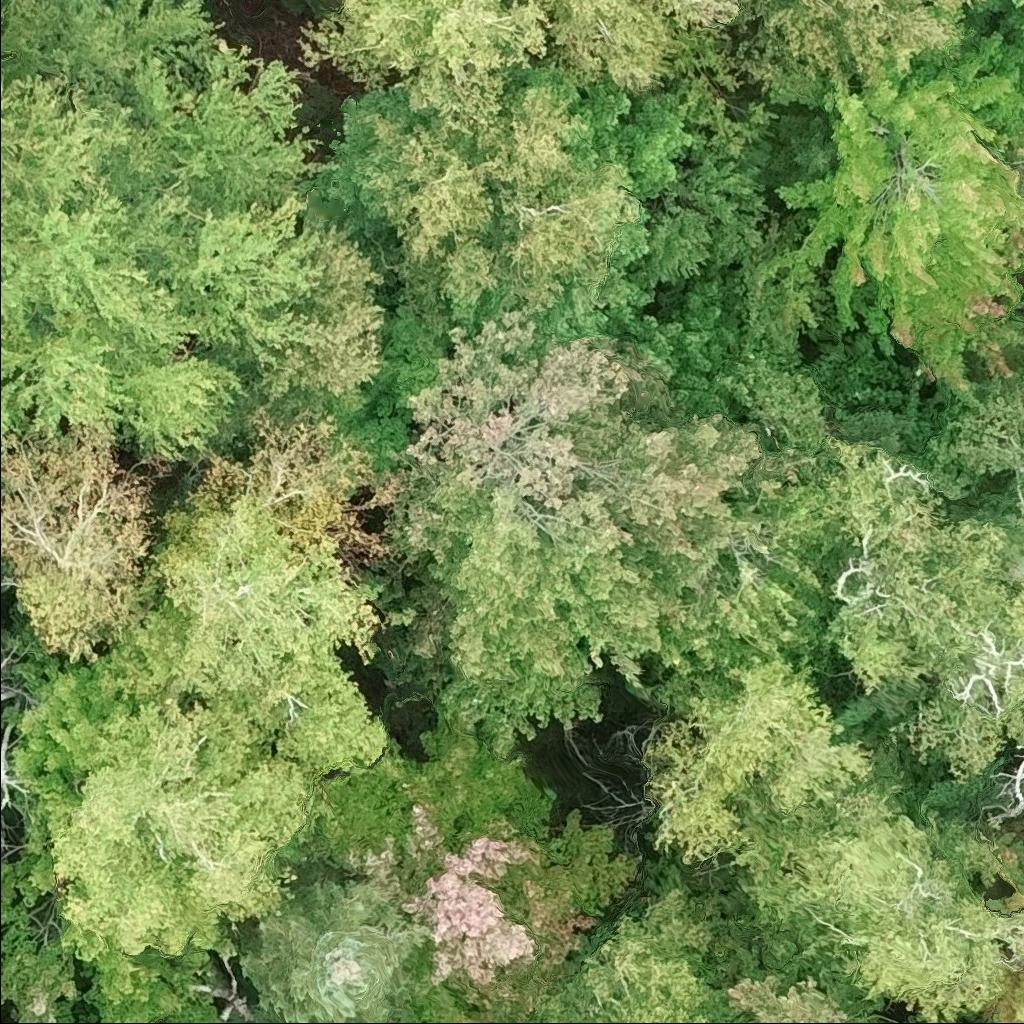crown: (387, 299, 847, 752), (0, 30, 341, 458), (95, 396, 418, 773), (750, 19, 1023, 408), (316, 715, 644, 1023), (733, 747, 1023, 1023), (42, 695, 330, 962), (817, 437, 1023, 782), (366, 82, 645, 331), (300, 0, 738, 134), (641, 649, 875, 863), (529, 864, 808, 1023), (0, 416, 151, 665), (233, 217, 388, 410), (0, 652, 120, 894), (237, 875, 433, 1023), (731, 0, 998, 106), (0, 0, 231, 88), (926, 350, 1023, 536), (728, 964, 886, 1023), (976, 958, 1023, 1023), (994, 829, 1023, 912), (977, 0, 1023, 52), (94, 1016, 138, 1023), (904, 1012, 925, 1023), (158, 1018, 177, 1023)
